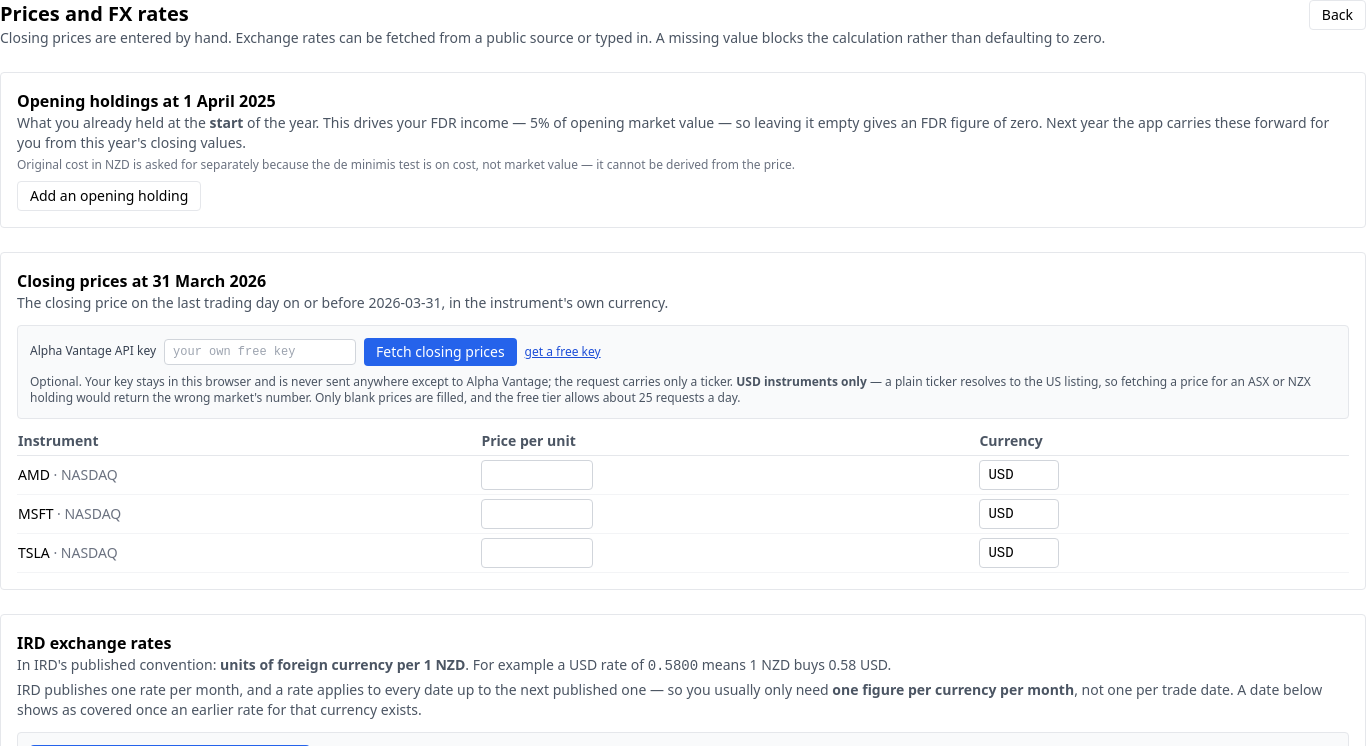
fetching closing prices › collapses one repeated provider message across many tickers into a single line
Type "k" into the password field labelled "Alpha Vantage API key".
click(260, 352); type("k")  # box [164, 339, 356, 365]
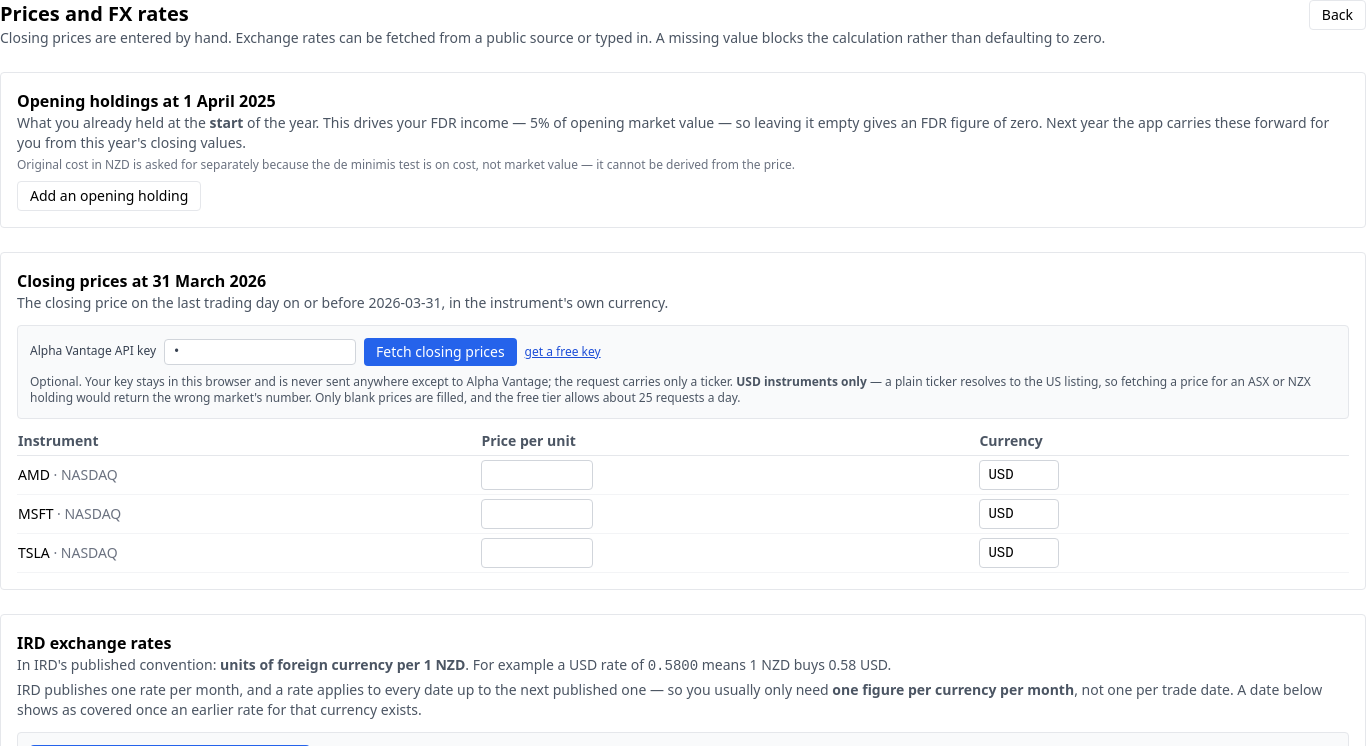
Click the button with test id "fetch-prices".
click(440, 352)  # box [364, 338, 517, 366]
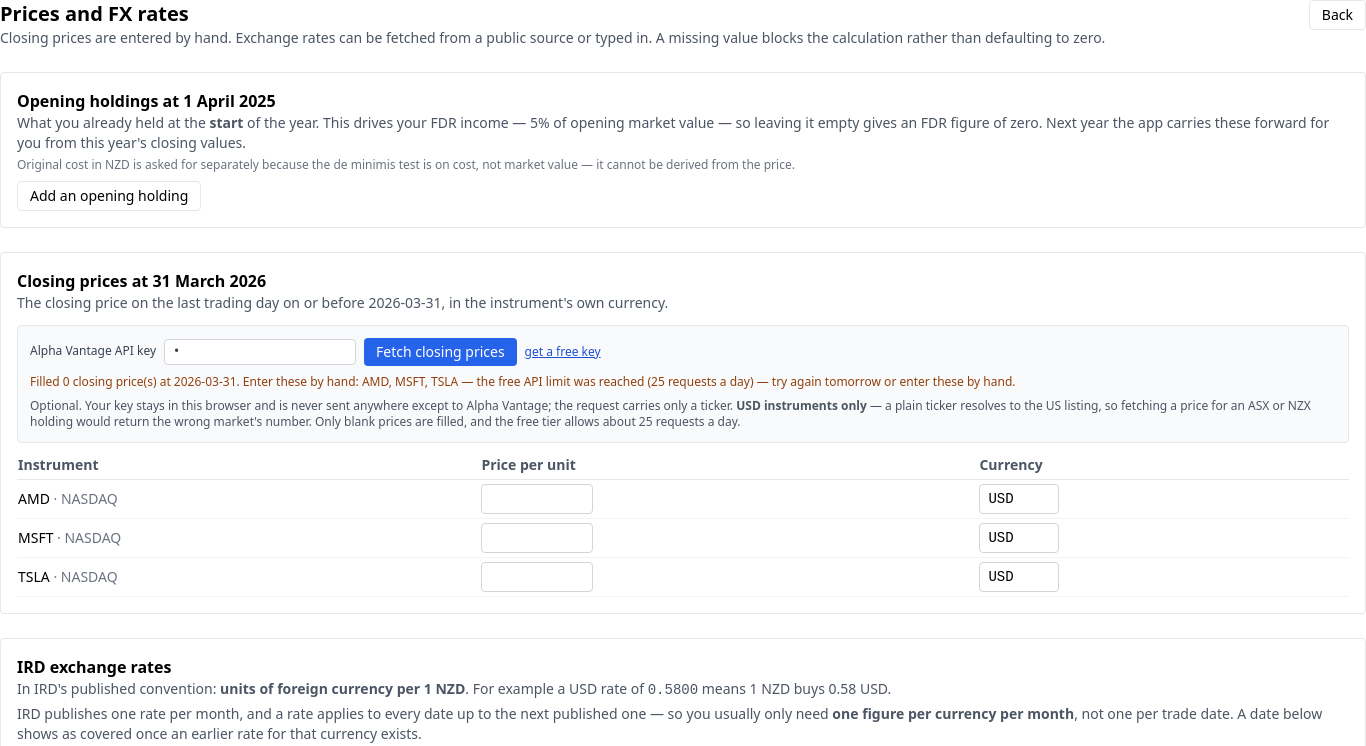
Expected: the text with test id "fetch-prices-message" shows "AMD, MSFT, TSLA — the free API limit was reached", [30, 373, 1016, 390]
